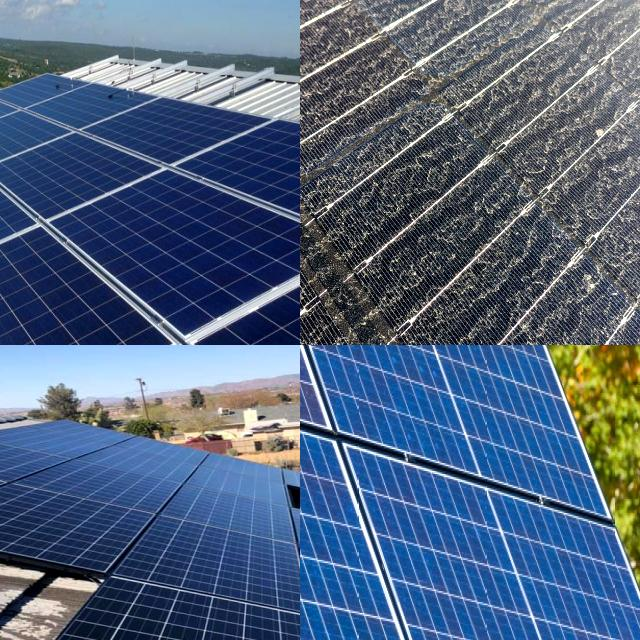bird: (300, 153, 351, 248)
crack: (300, 345, 640, 640), (38, 132, 300, 345), (0, 399, 262, 583), (0, 210, 180, 345), (134, 455, 300, 600), (0, 561, 300, 640), (0, 107, 166, 249), (80, 70, 251, 180), (134, 236, 300, 345), (0, 132, 71, 240), (0, 108, 59, 185)
dust: (305, 0, 477, 242), (509, 132, 640, 319), (534, 0, 640, 94), (300, 0, 372, 124), (308, 0, 497, 30)
